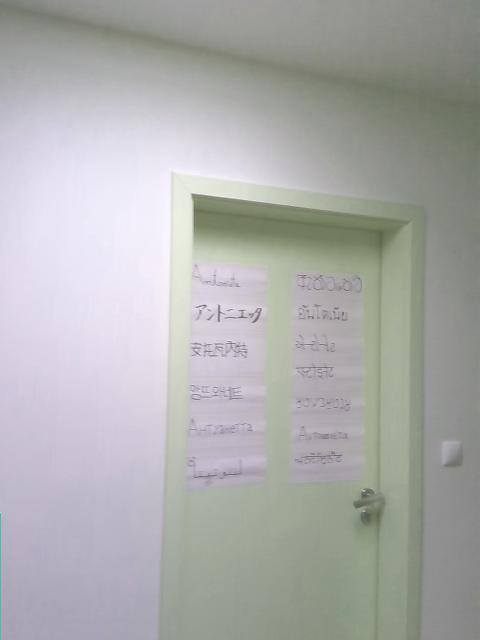closed_door: (156, 170, 431, 639)
